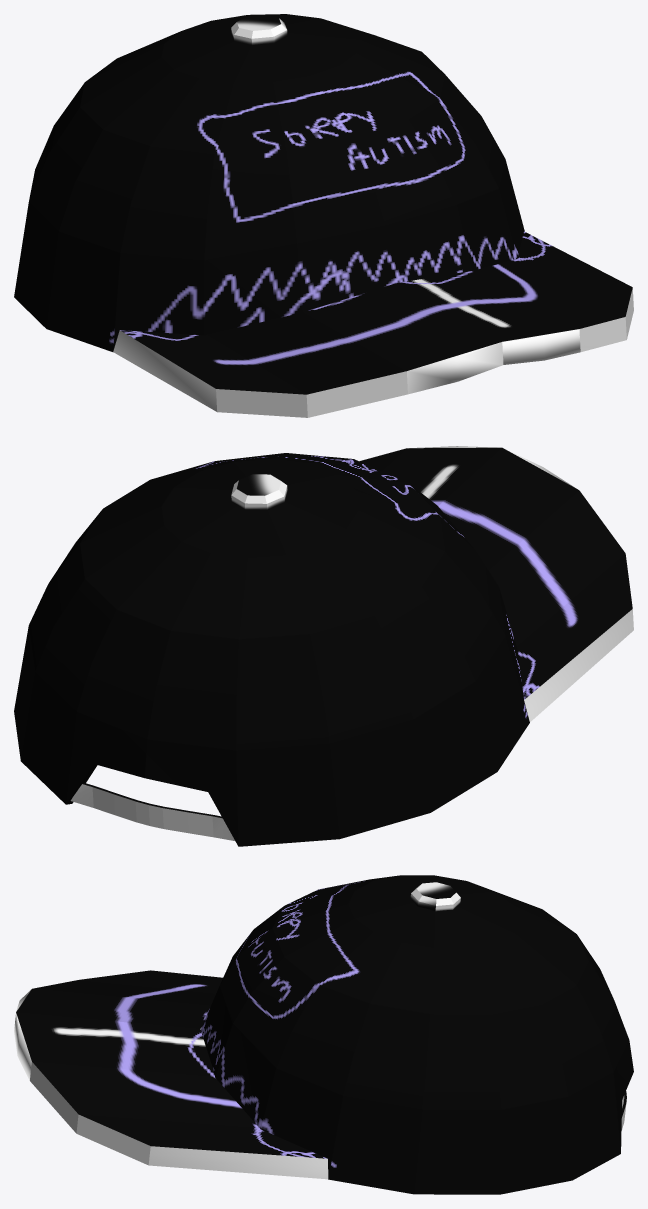
The model's file is truckercap.glb.
The picture shows the model from 3 angles, top to bottom: view 1: azimuth 30°, elevation 25°; view 2: azimuth 150°, elevation 25°; view 3: azimuth 270°, elevation 25°; orthographic projection. The views are drawn at different scales.
Parts seen in each view (by area): view 1: CapDark_Sphere; view 2: CapDark_Sphere; view 3: CapDark_Sphere.
Boxes of the visible parts, x1,y1,x2,y2 form: CapDark_Sphere: (14,14,633,417); CapDark_Sphere: (14,446,633,846); CapDark_Sphere: (14,875,633,1194).
Size of the model in its own units: 5.94 by 3.34 by 8.18.
Materials: 2 (2 with a texture image).
